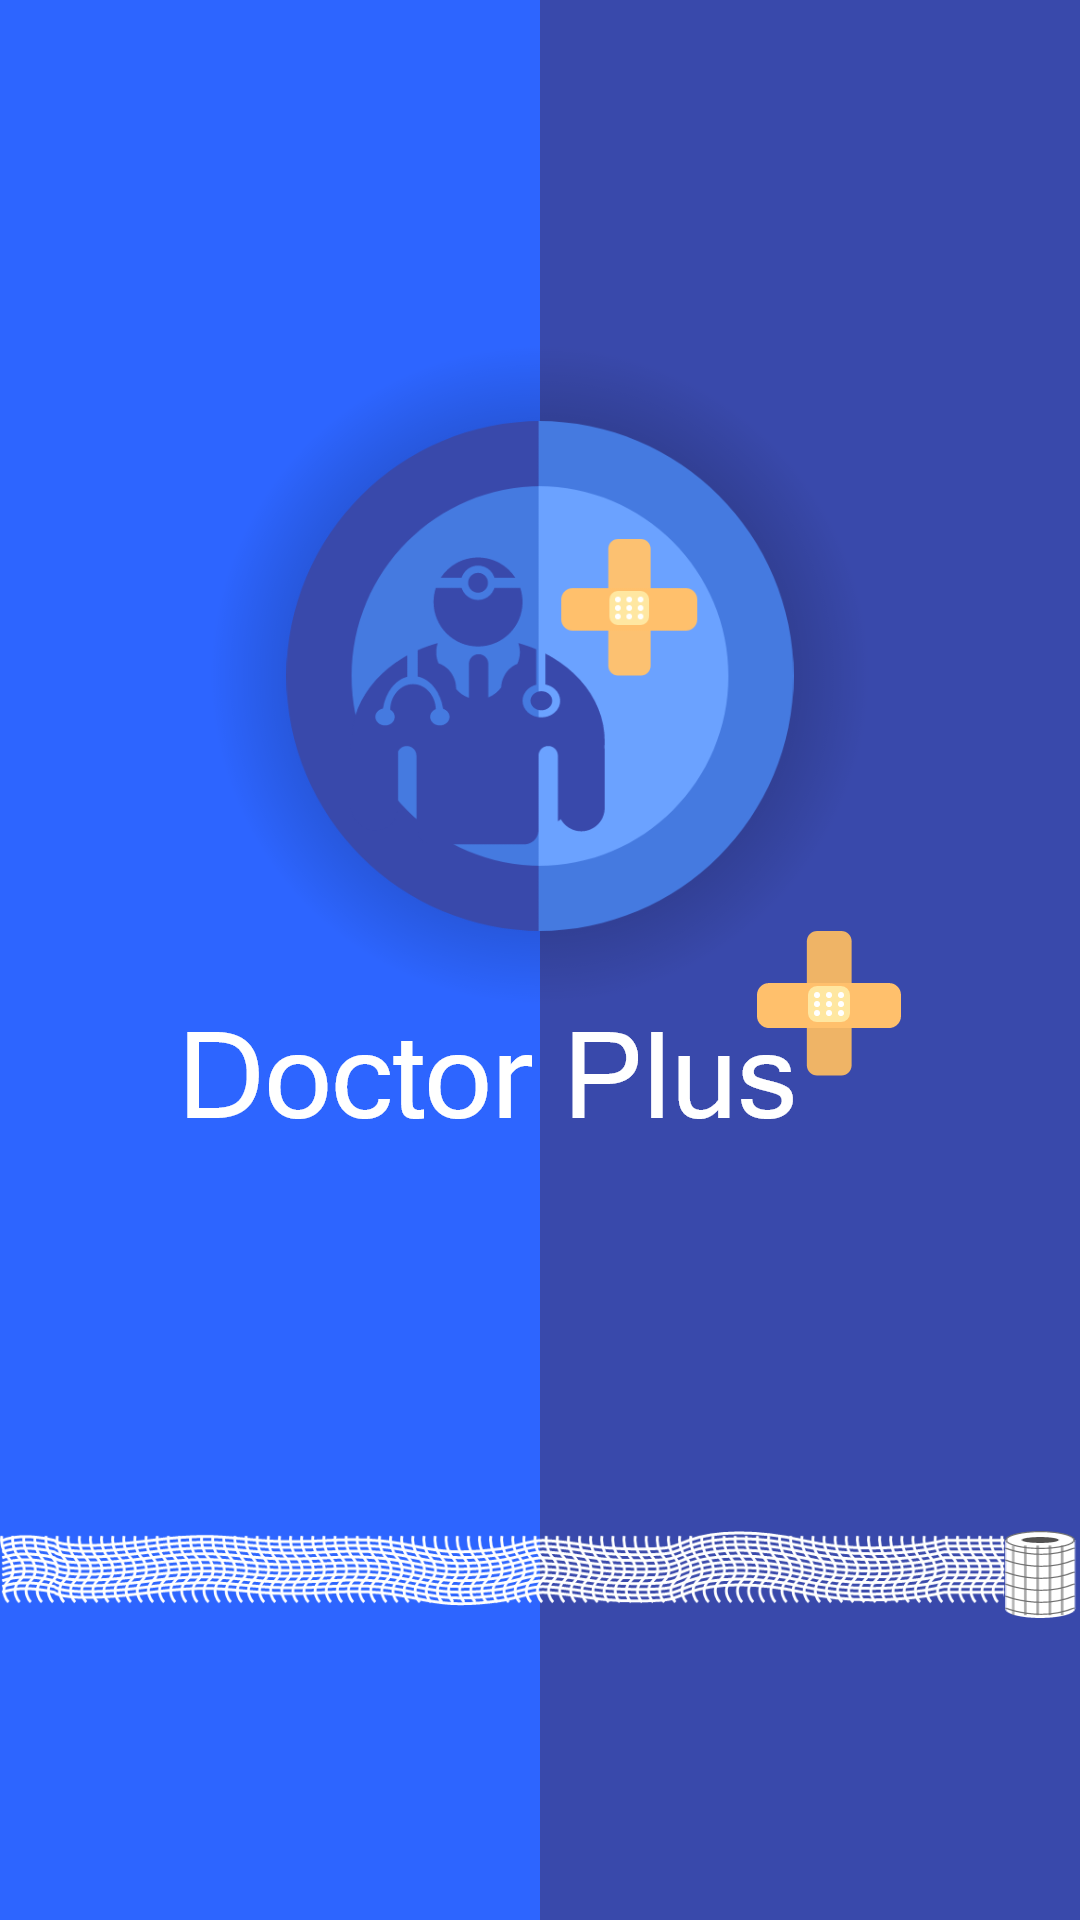

Icons on this 1080×1920 Android screen, each with its box as BBox(x1, y1, x2, y2):
roll: BBox(1005, 1531, 1076, 1618)
